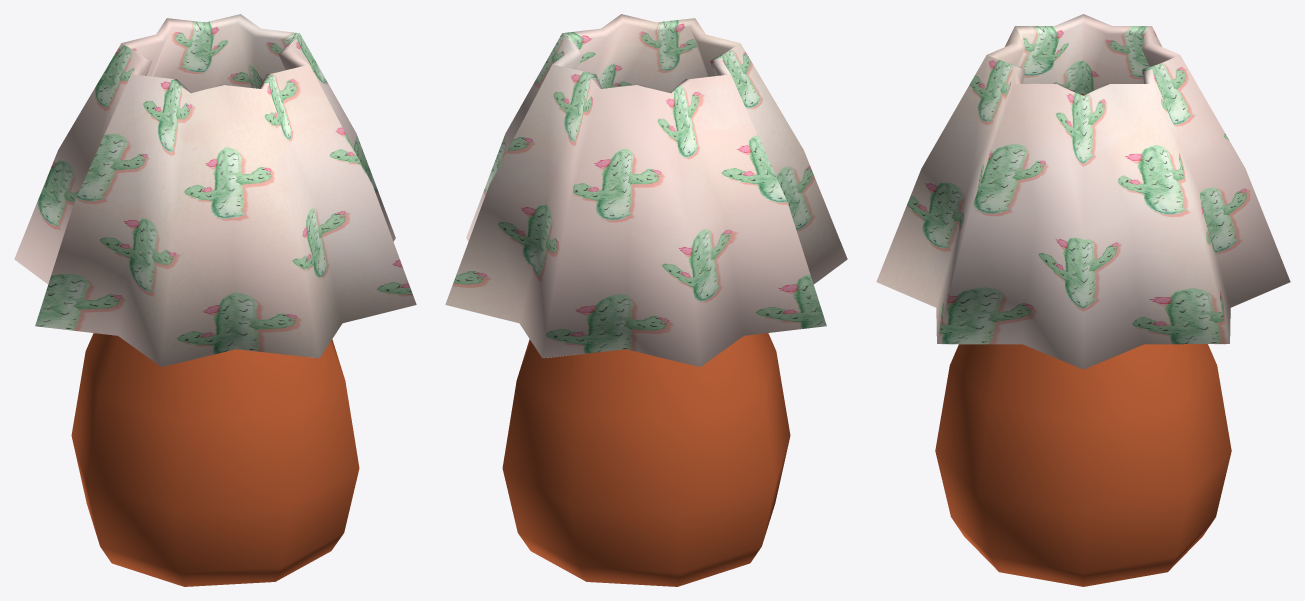
The model's file is velador.fbx.
The picture shows the model from 3 angles, left to right: view 1: azimuth 30°, elevation 25°; view 2: azimuth 150°, elevation 25°; view 3: azimuth 270°, elevation 25°; orthographic projection.
Visible parts, largest first — view 1: Velador; view 2: Velador; view 3: Velador.
Boxes of the visible parts, x1=… form: Velador: x1=14, y1=14, x2=416, y2=586; Velador: x1=445, y1=14, x2=847, y2=586; Velador: x1=876, y1=14, x2=1290, y2=586.
Size of the model in its own units: 24.13 by 30.94 by 24.13.
